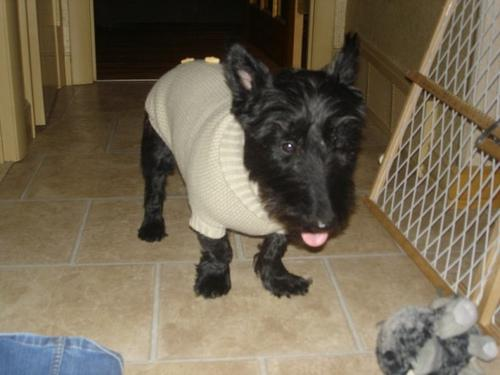dog-scottish_terrier: (223, 29, 364, 245)
